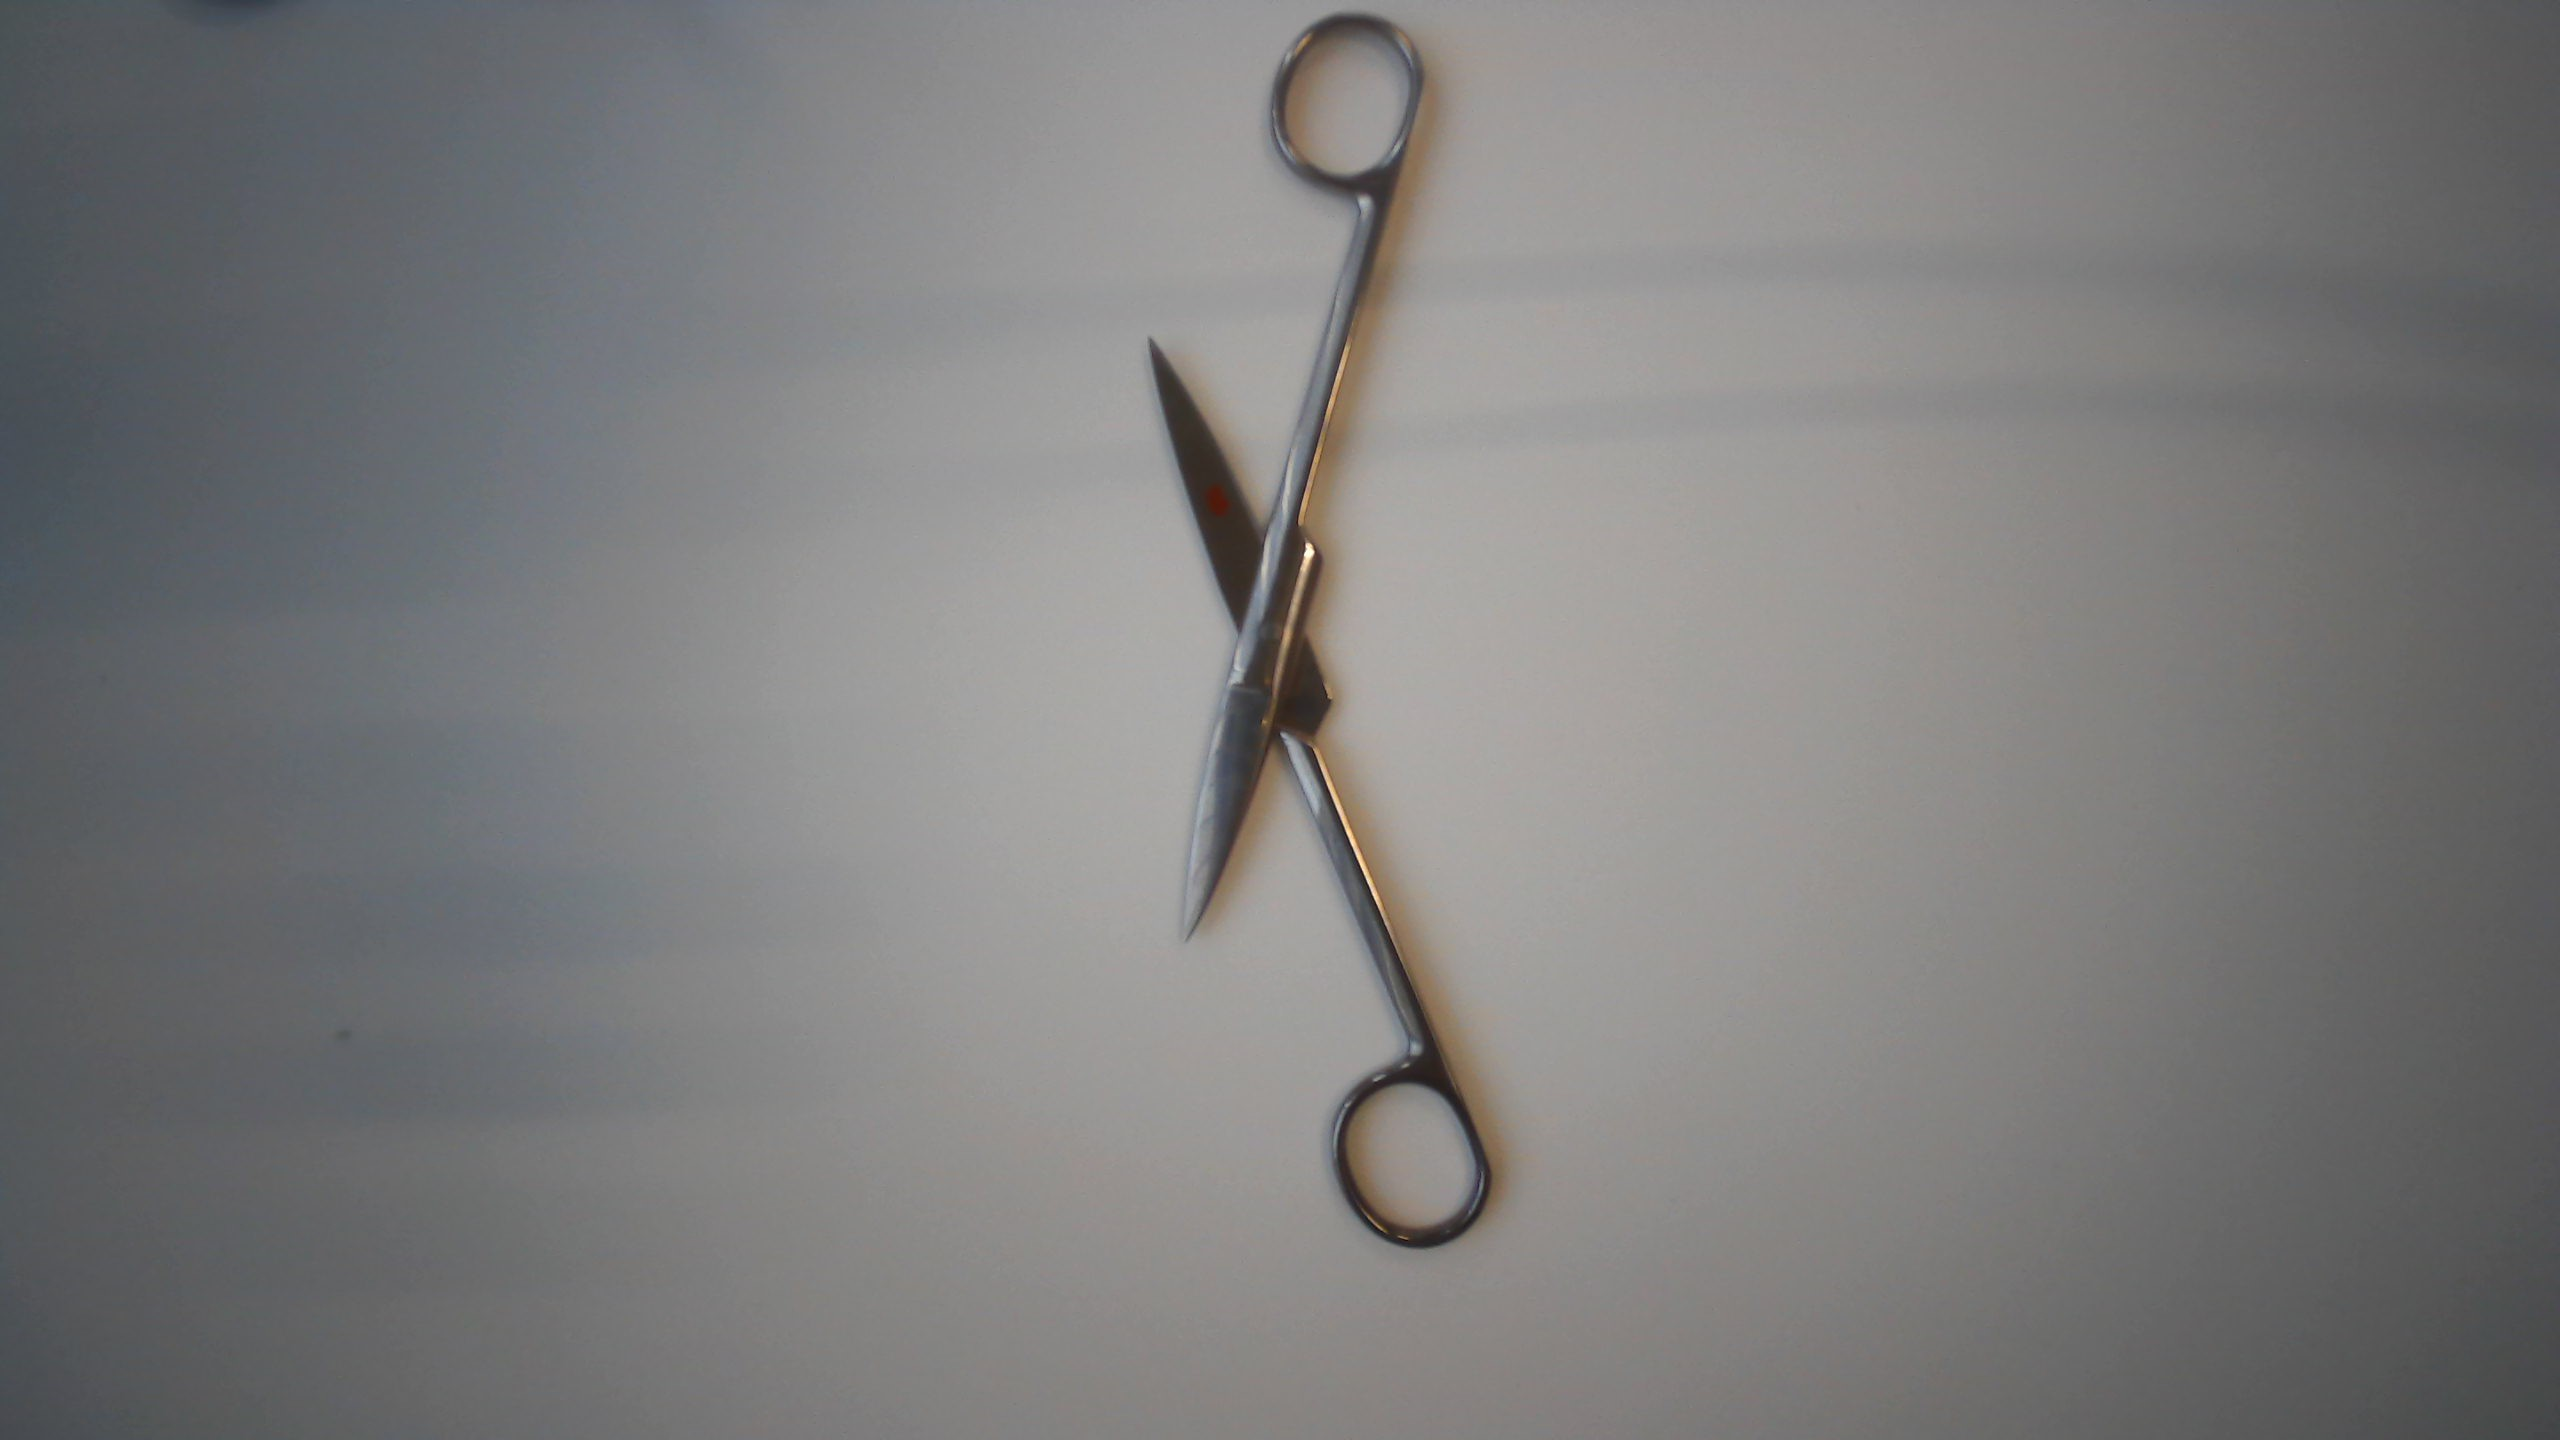Stain: (1199, 469, 1238, 522)
